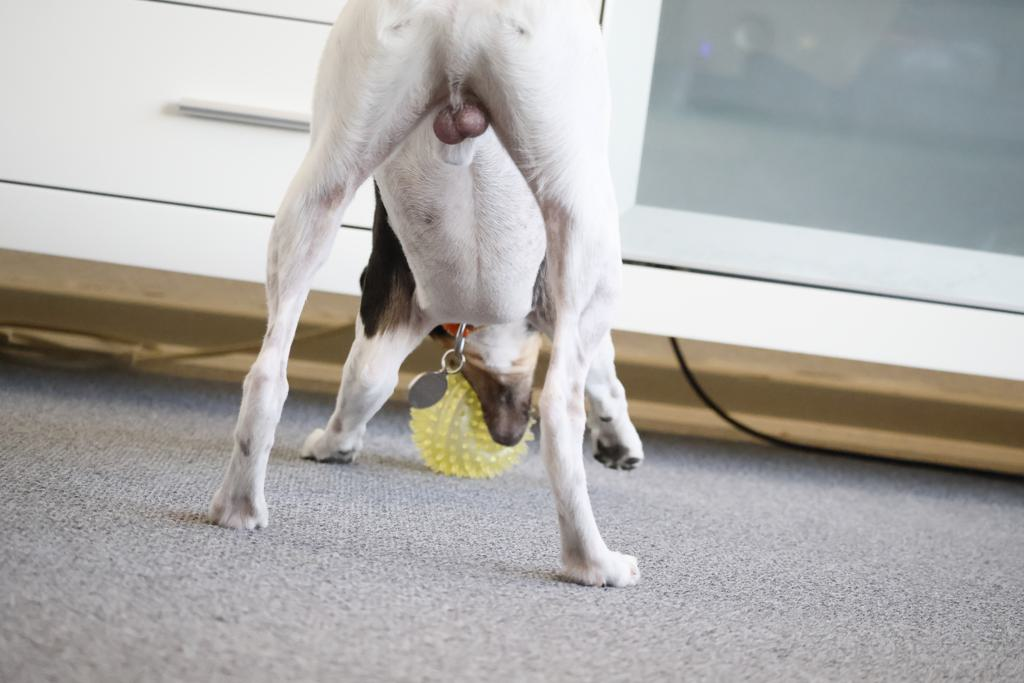Dog: (190, 0, 663, 605)
